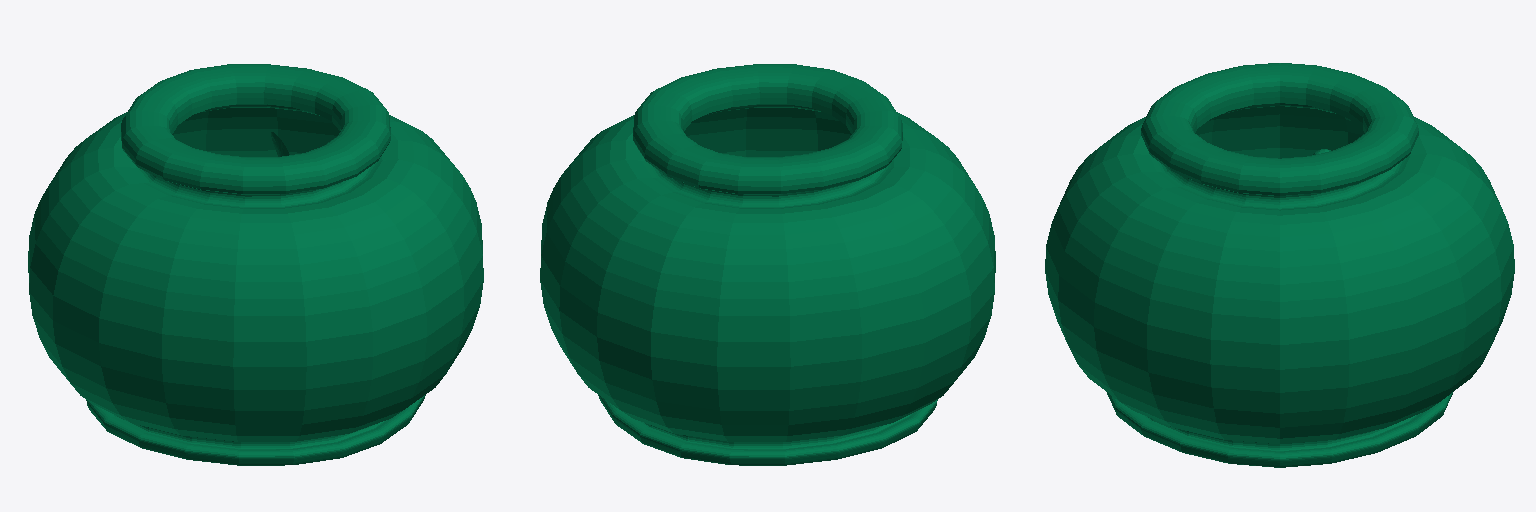
File: fishforsketchfab.obj
The picture shows the model from 3 angles: view 1: azimuth 30°, elevation 25°; view 2: azimuth 150°, elevation 25°; view 3: azimuth 270°, elevation 25°; orthographic projection.
Visible parts, largest first — view 1: Bowl2; view 2: Bowl2; view 3: Bowl2.
Boxes of the visible parts, <box> form: Bowl2: <box>28,64,483,465</box>; Bowl2: <box>540,64,995,465</box>; Bowl2: <box>1045,63,1514,467</box>.
Size of the model in its own units: 22.23 by 14.65 by 22.23.